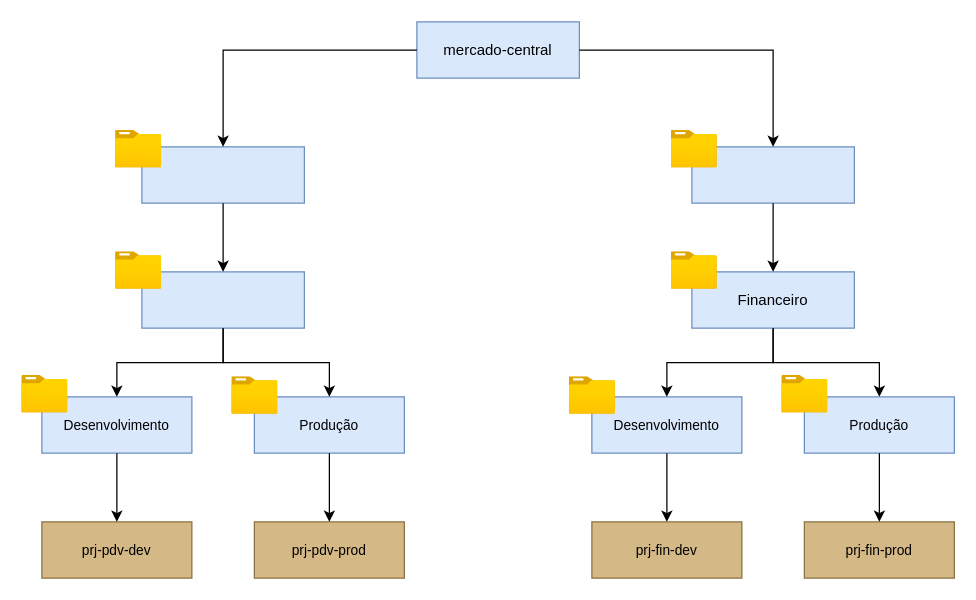
This 976x600 diagram has some shape labels left out. Here are the shapes that lost their labels. From the top down, the box of each, then its label:
(141, 146, 304, 203): Operações
(691, 146, 854, 203): Administrativo
(141, 271, 304, 328): Caixa-PDV
